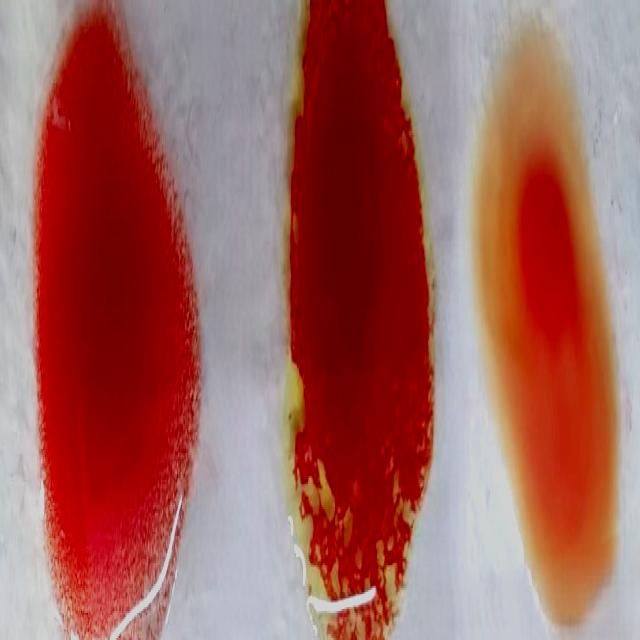B: (292, 0, 434, 626)
D: (37, 0, 196, 635)
